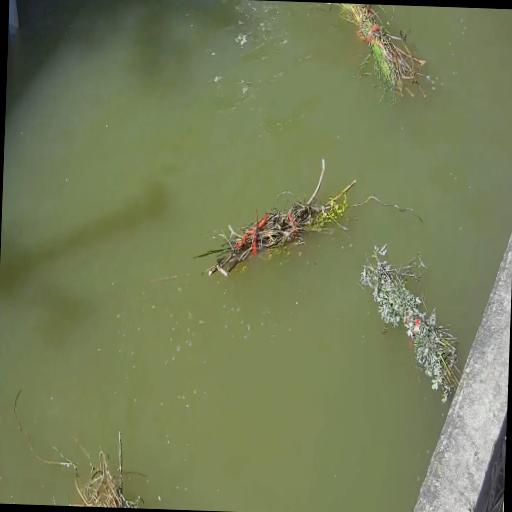twig: (195, 158, 355, 276), (359, 245, 459, 402), (336, 4, 425, 100), (34, 430, 142, 508), (13, 389, 33, 450)
